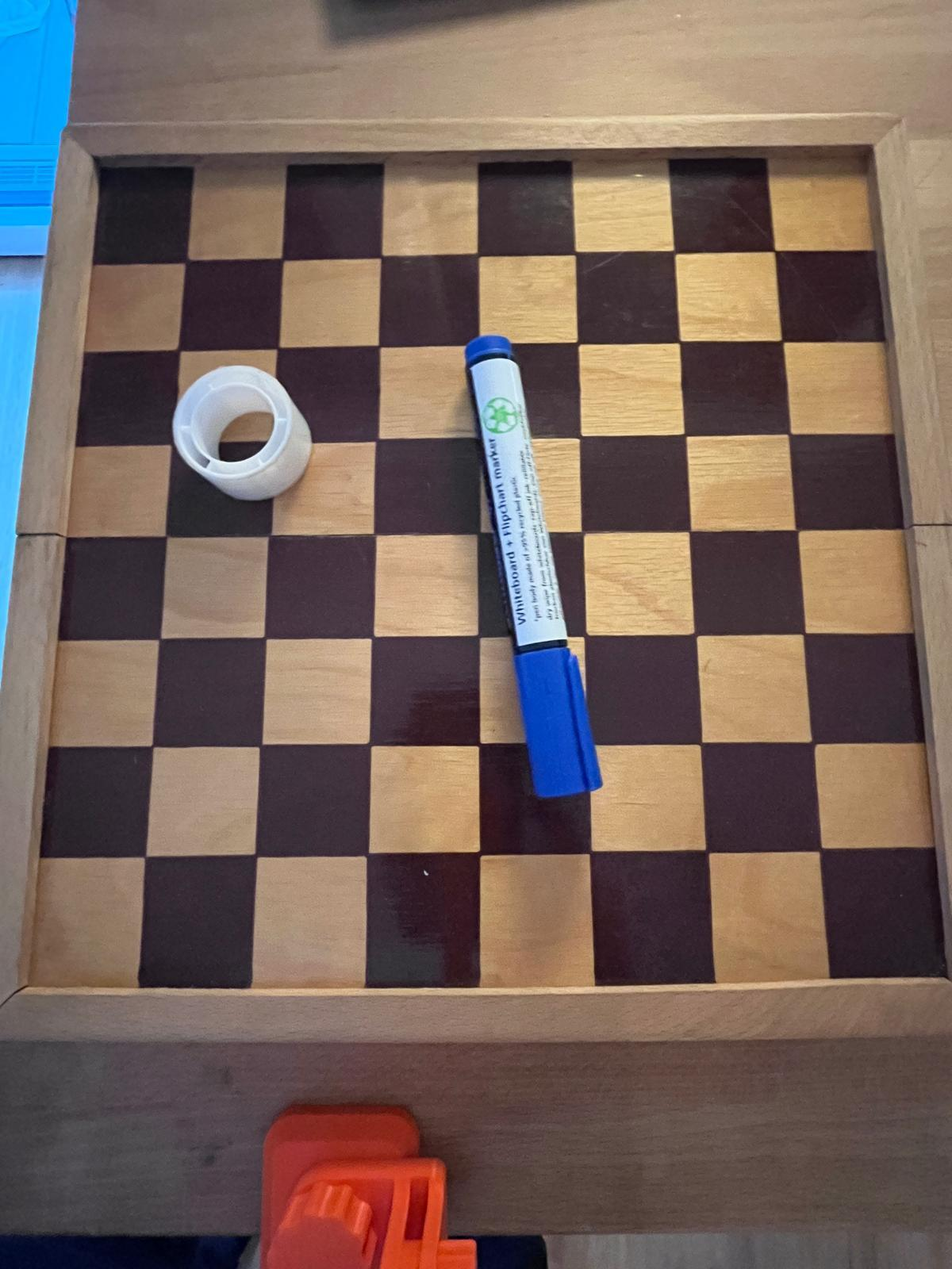marker: (454, 335, 609, 798)
tape: (157, 368, 316, 501)
